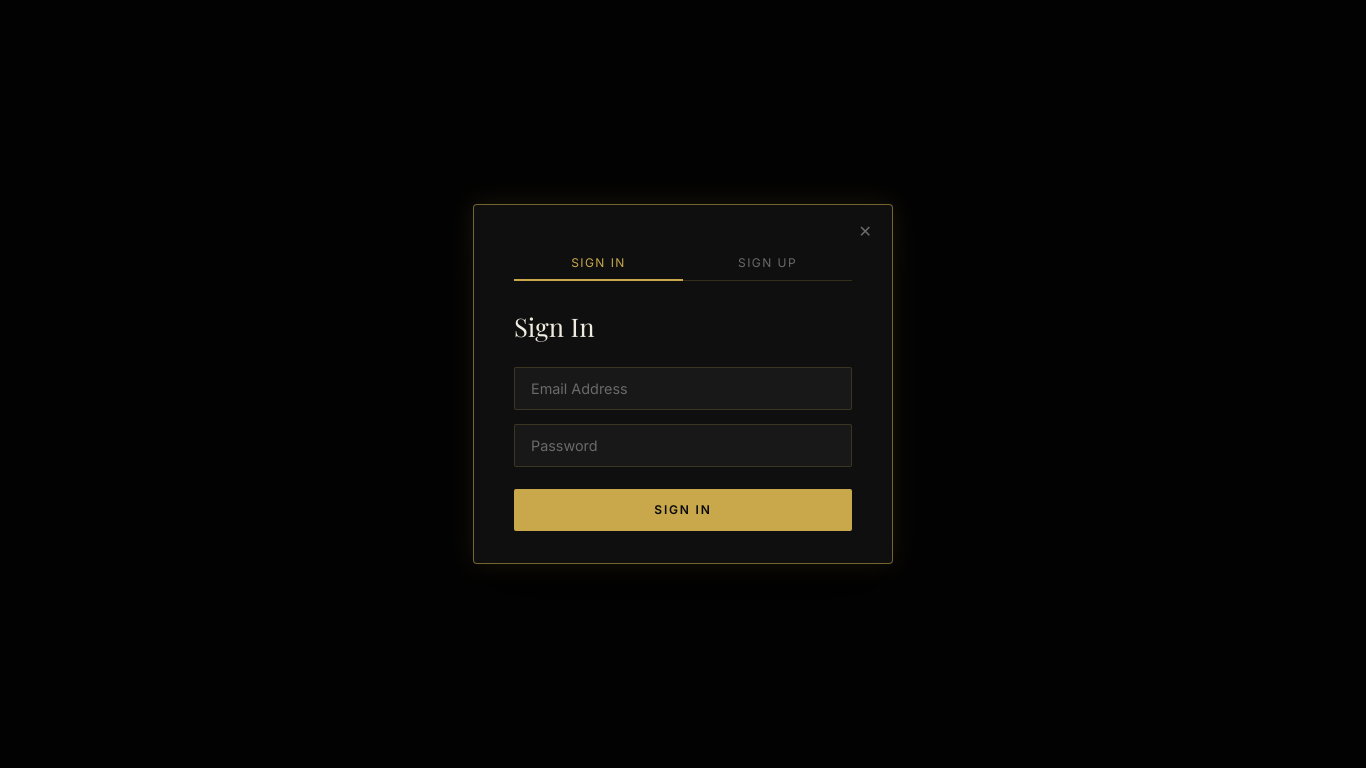
Test: AuthModal › switches to Create Account form when Sign Up tab clicked
Click the button with test id "tab-signup".
click(768, 263)  # box top-left (683, 245), bottom-right (852, 281)
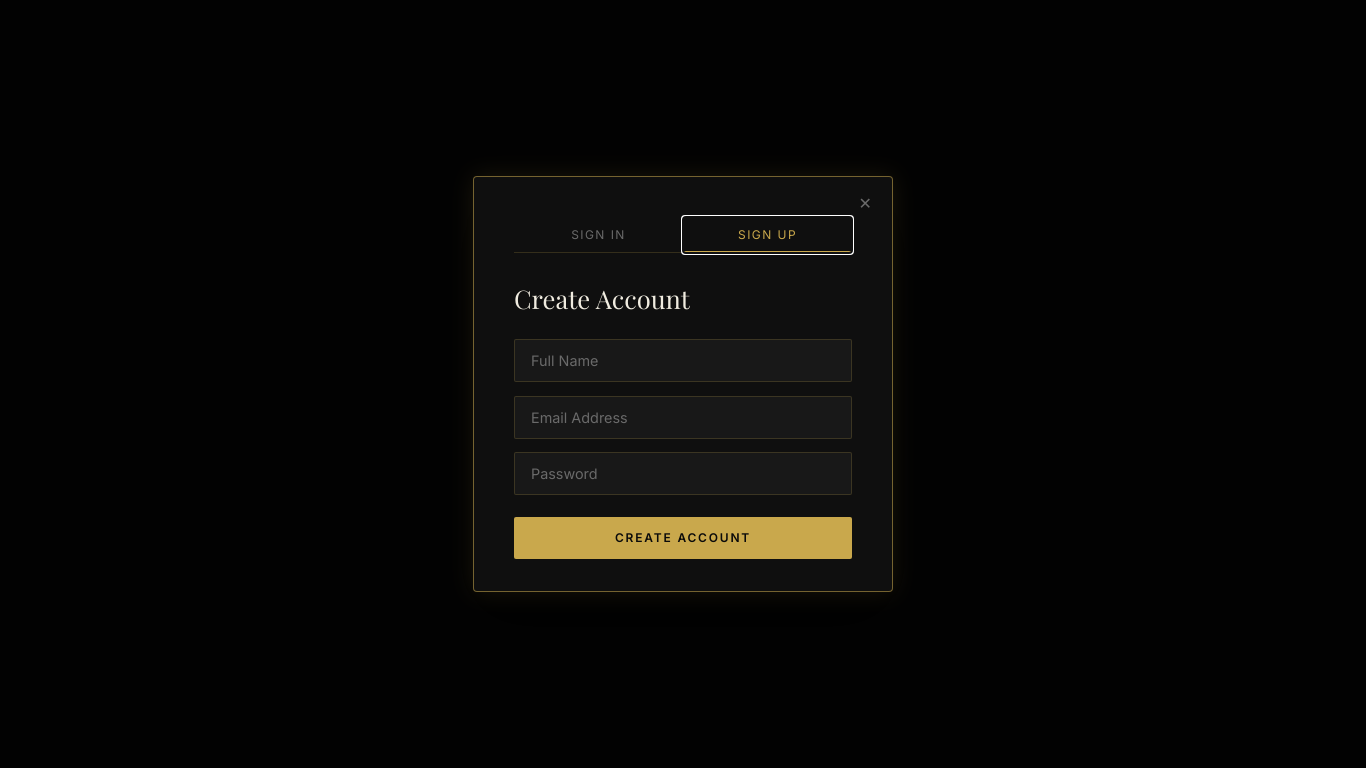
Check: the heading with test id "modal-title" reads "Create Account", box top-left (514, 281), bottom-right (690, 315)
